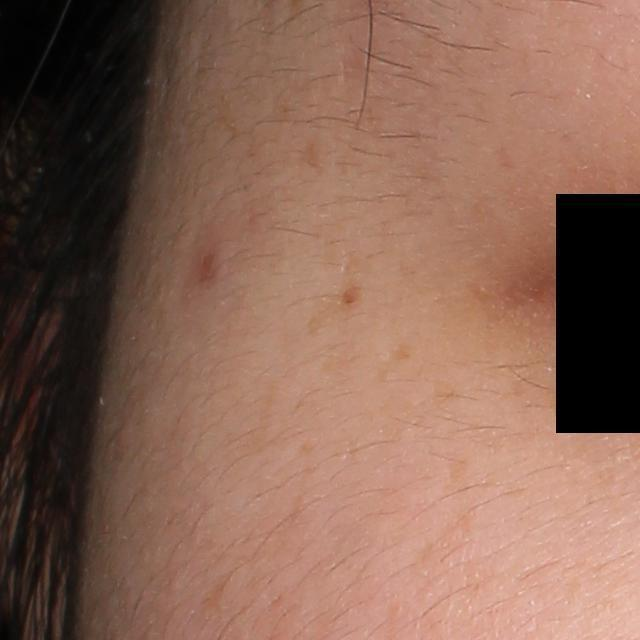melasma: (412, 509, 471, 565), (389, 339, 418, 367)
